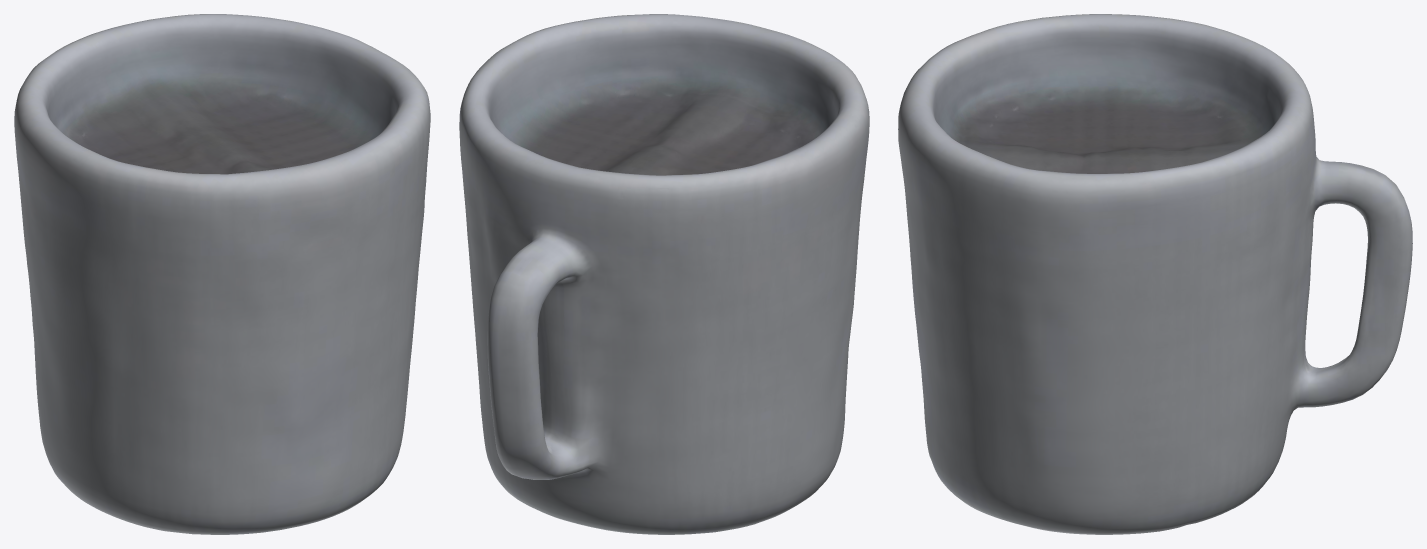
Rendered from 255473f94974_cup_of_glass__3d_as.fbx.
3 renders of one model, left to right at view 1: azimuth 30°, elevation 25°; view 2: azimuth 150°, elevation 25°; view 3: azimuth 270°, elevation 25°, orthographic.
Visible parts, largest first — view 1: mesh; view 2: mesh; view 3: mesh.
Boxes of the visible parts, left/top/right/bottom form: mesh: left=14, top=14, right=430, bottom=534; mesh: left=459, top=14, right=869, bottom=534; mesh: left=898, top=14, right=1412, bottom=534.
Size of the model in its own units: 80.35 by 79.82 by 99.95.
